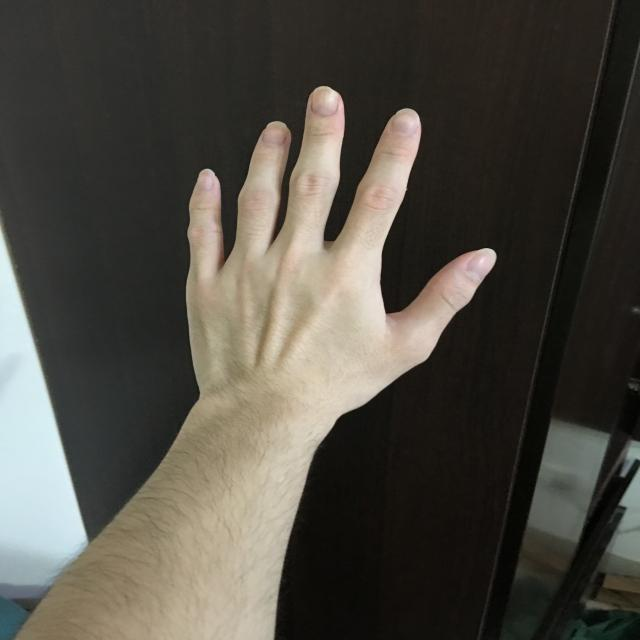no_glove: (159, 73, 513, 442)
